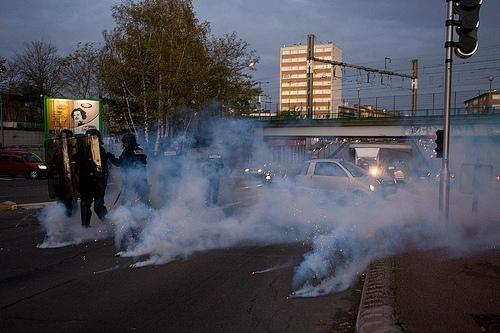car: (295, 158, 399, 199), (1, 150, 50, 180), (264, 164, 296, 186), (244, 164, 263, 177)
truck: (356, 148, 380, 176)
